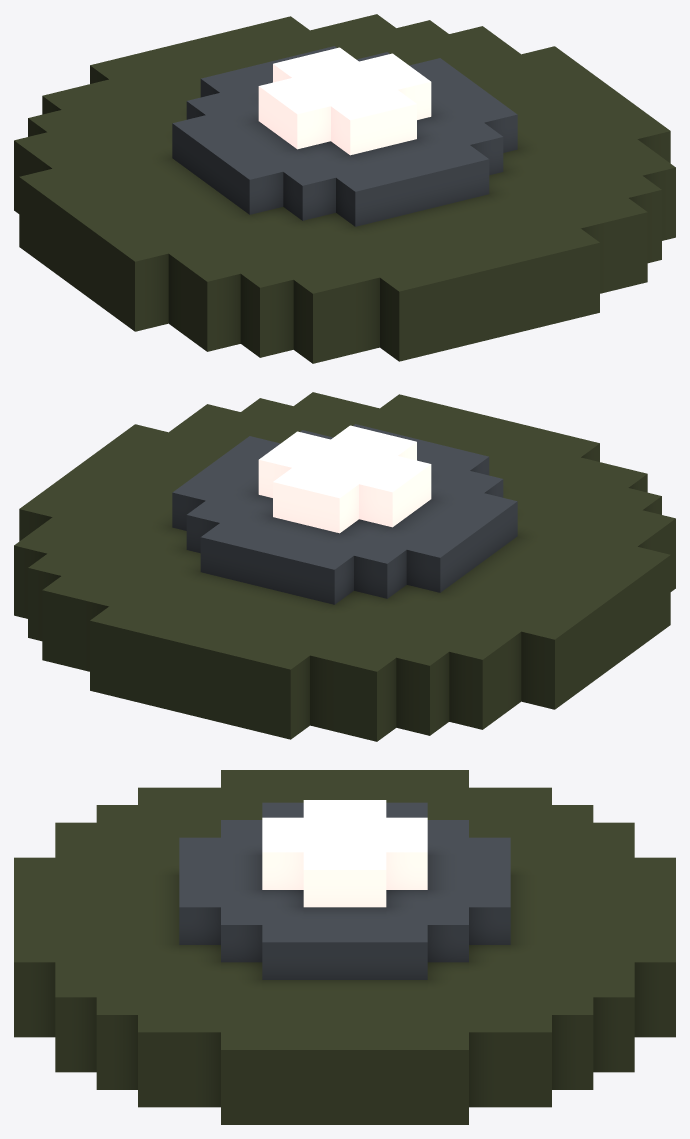
File: cm_mine.glb
The picture shows the model from 3 angles, top to bottom: view 1: azimuth 30°, elevation 25°; view 2: azimuth 150°, elevation 25°; view 3: azimuth 270°, elevation 25°; orthographic projection. The views are drawn at different scales.
Parts seen in each view (by area): view 1: cm_mine_body; view 2: cm_mine_body; view 3: cm_mine_body.
Boxes of the visible parts, x1,y1,x2,y2 form: cm_mine_body: (14, 14, 675, 363); cm_mine_body: (14, 392, 675, 741); cm_mine_body: (14, 770, 675, 1124).
Size of the model in its own units: 1 by 0.25 by 1.
Materials: 1 (1 with a texture image).
